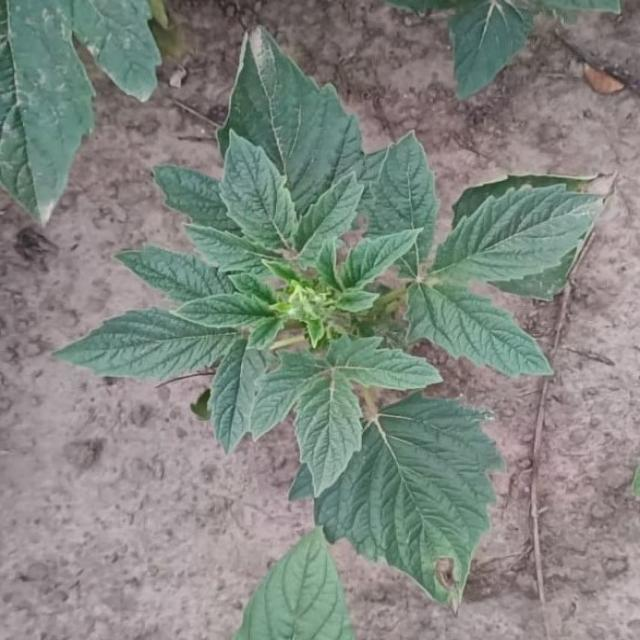weed: (56, 27, 604, 640), (1, 0, 160, 222), (392, 0, 619, 96)
